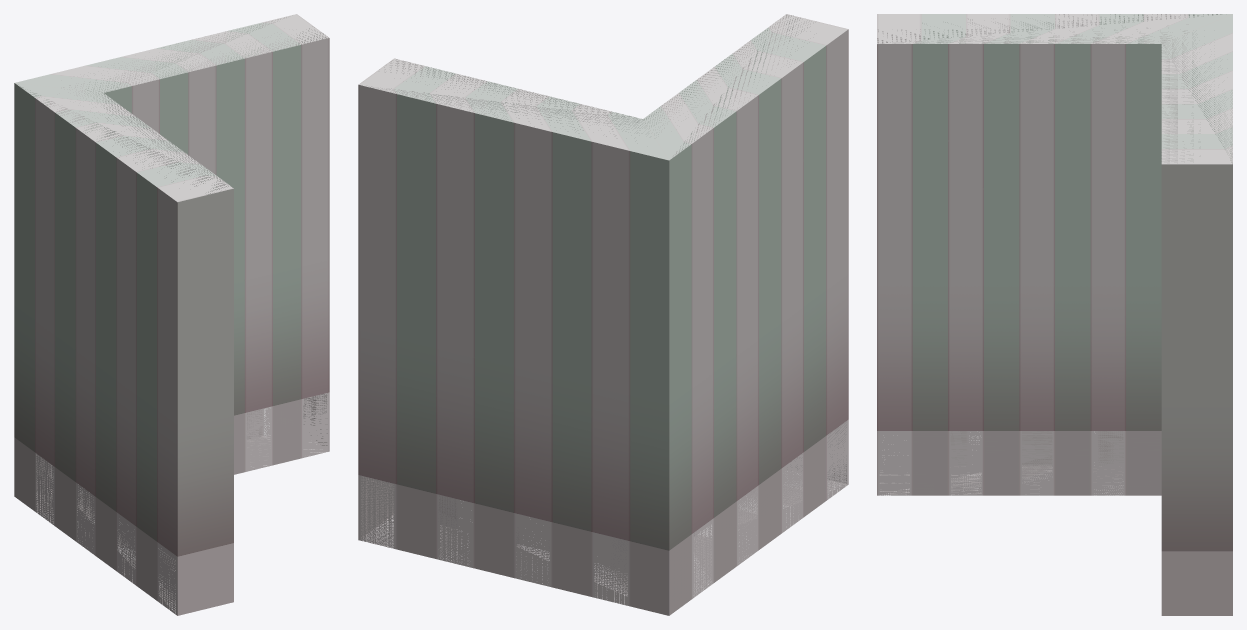
The model's file is Wall_A_Angle.fbx.
The picture shows the model from 3 angles, left to right: view 1: azimuth 30°, elevation 25°; view 2: azimuth 150°, elevation 25°; view 3: azimuth 270°, elevation 25°; orthographic projection. The views are drawn at different scales.
Visible parts, largest first — view 1: Wall_A_Angle; view 2: Wall_A_Angle; view 3: Wall_A_Angle.
Boxes of the visible parts, bbox=[...] form: Wall_A_Angle: bbox=[14, 14, 329, 615]; Wall_A_Angle: bbox=[358, 14, 848, 615]; Wall_A_Angle: bbox=[877, 14, 1232, 615].
Bounding box in the file's own units: 2.5 × 3.5 × 2.5.
